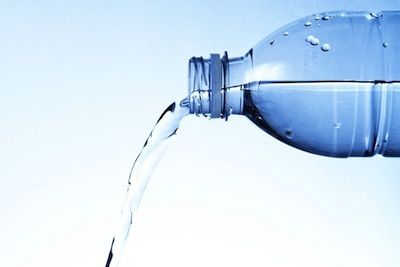plastic_bottle: (152, 7, 400, 169)
